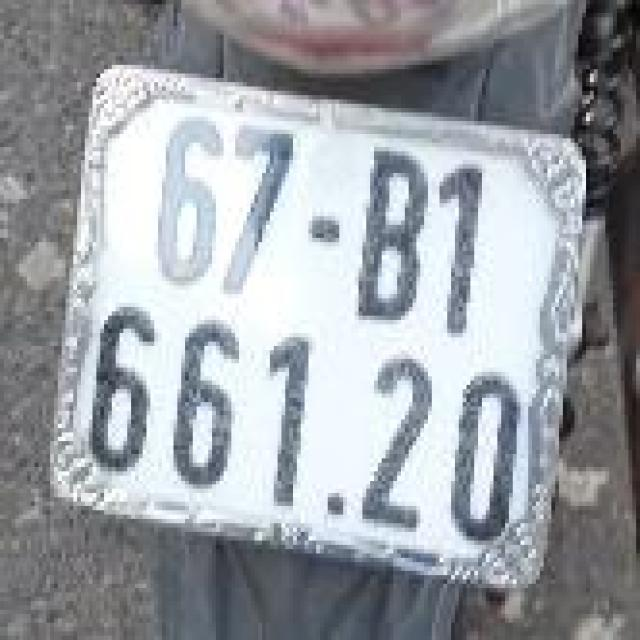0: (447, 361, 528, 564)
1: (256, 328, 330, 528), (432, 162, 493, 348)
2: (358, 342, 432, 540)
6: (92, 290, 166, 480), (153, 110, 230, 288), (168, 322, 245, 495)
7: (227, 119, 297, 309)
B: (355, 138, 428, 324)
